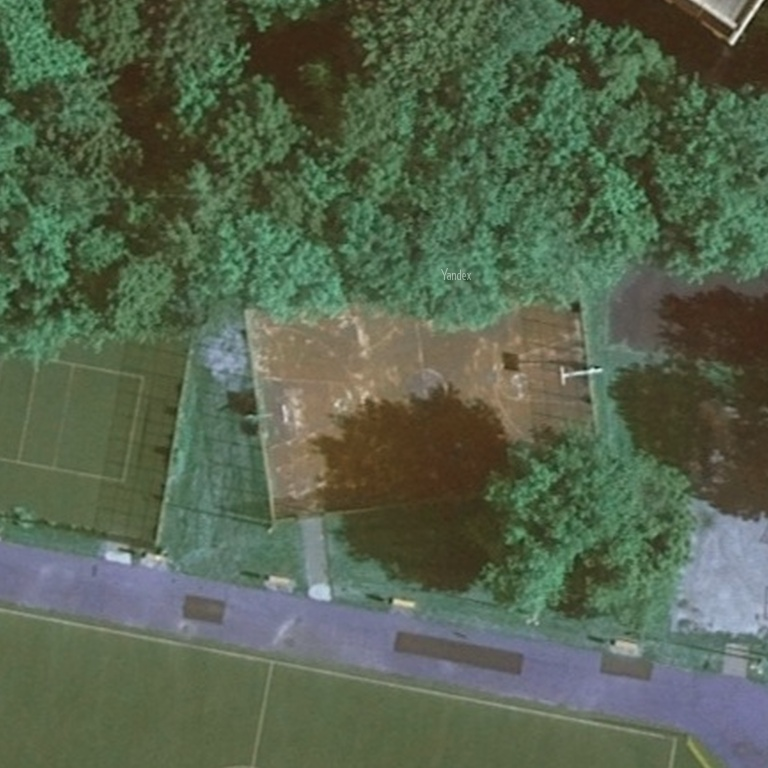basket_court: (228, 259, 619, 525)
